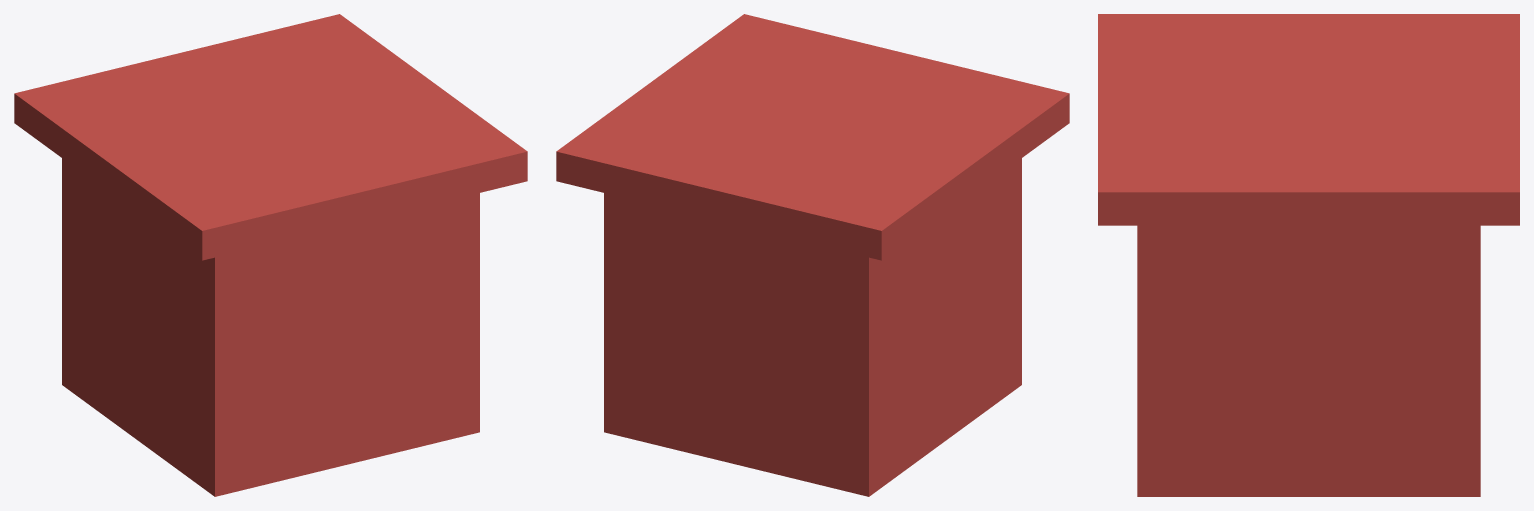
File: caja_roja_sin_triangular.obj
3 views of the same model, side by side, from view 1: azimuth 30°, elevation 25°; view 2: azimuth 150°, elevation 25°; view 3: azimuth 270°, elevation 25° (orthographic). The views are drawn at different scales.
Visible parts, largest first — view 1: barril:pCube1, barril:pCube2; view 2: barril:pCube1, barril:pCube2; view 3: barril:pCube1, barril:pCube2.
Part boxes in pixels (x1,y1,x2,y2): barril:pCube1: [62, 158, 479, 496]; barril:pCube2: [14, 14, 527, 260]; barril:pCube1: [604, 158, 1021, 496]; barril:pCube2: [556, 14, 1069, 260]; barril:pCube1: [1137, 225, 1480, 496]; barril:pCube2: [1098, 14, 1519, 225].
Size of the model in its own units: 1.23 by 1.03 by 1.23.
Materials: 1 (1 with a texture image).
